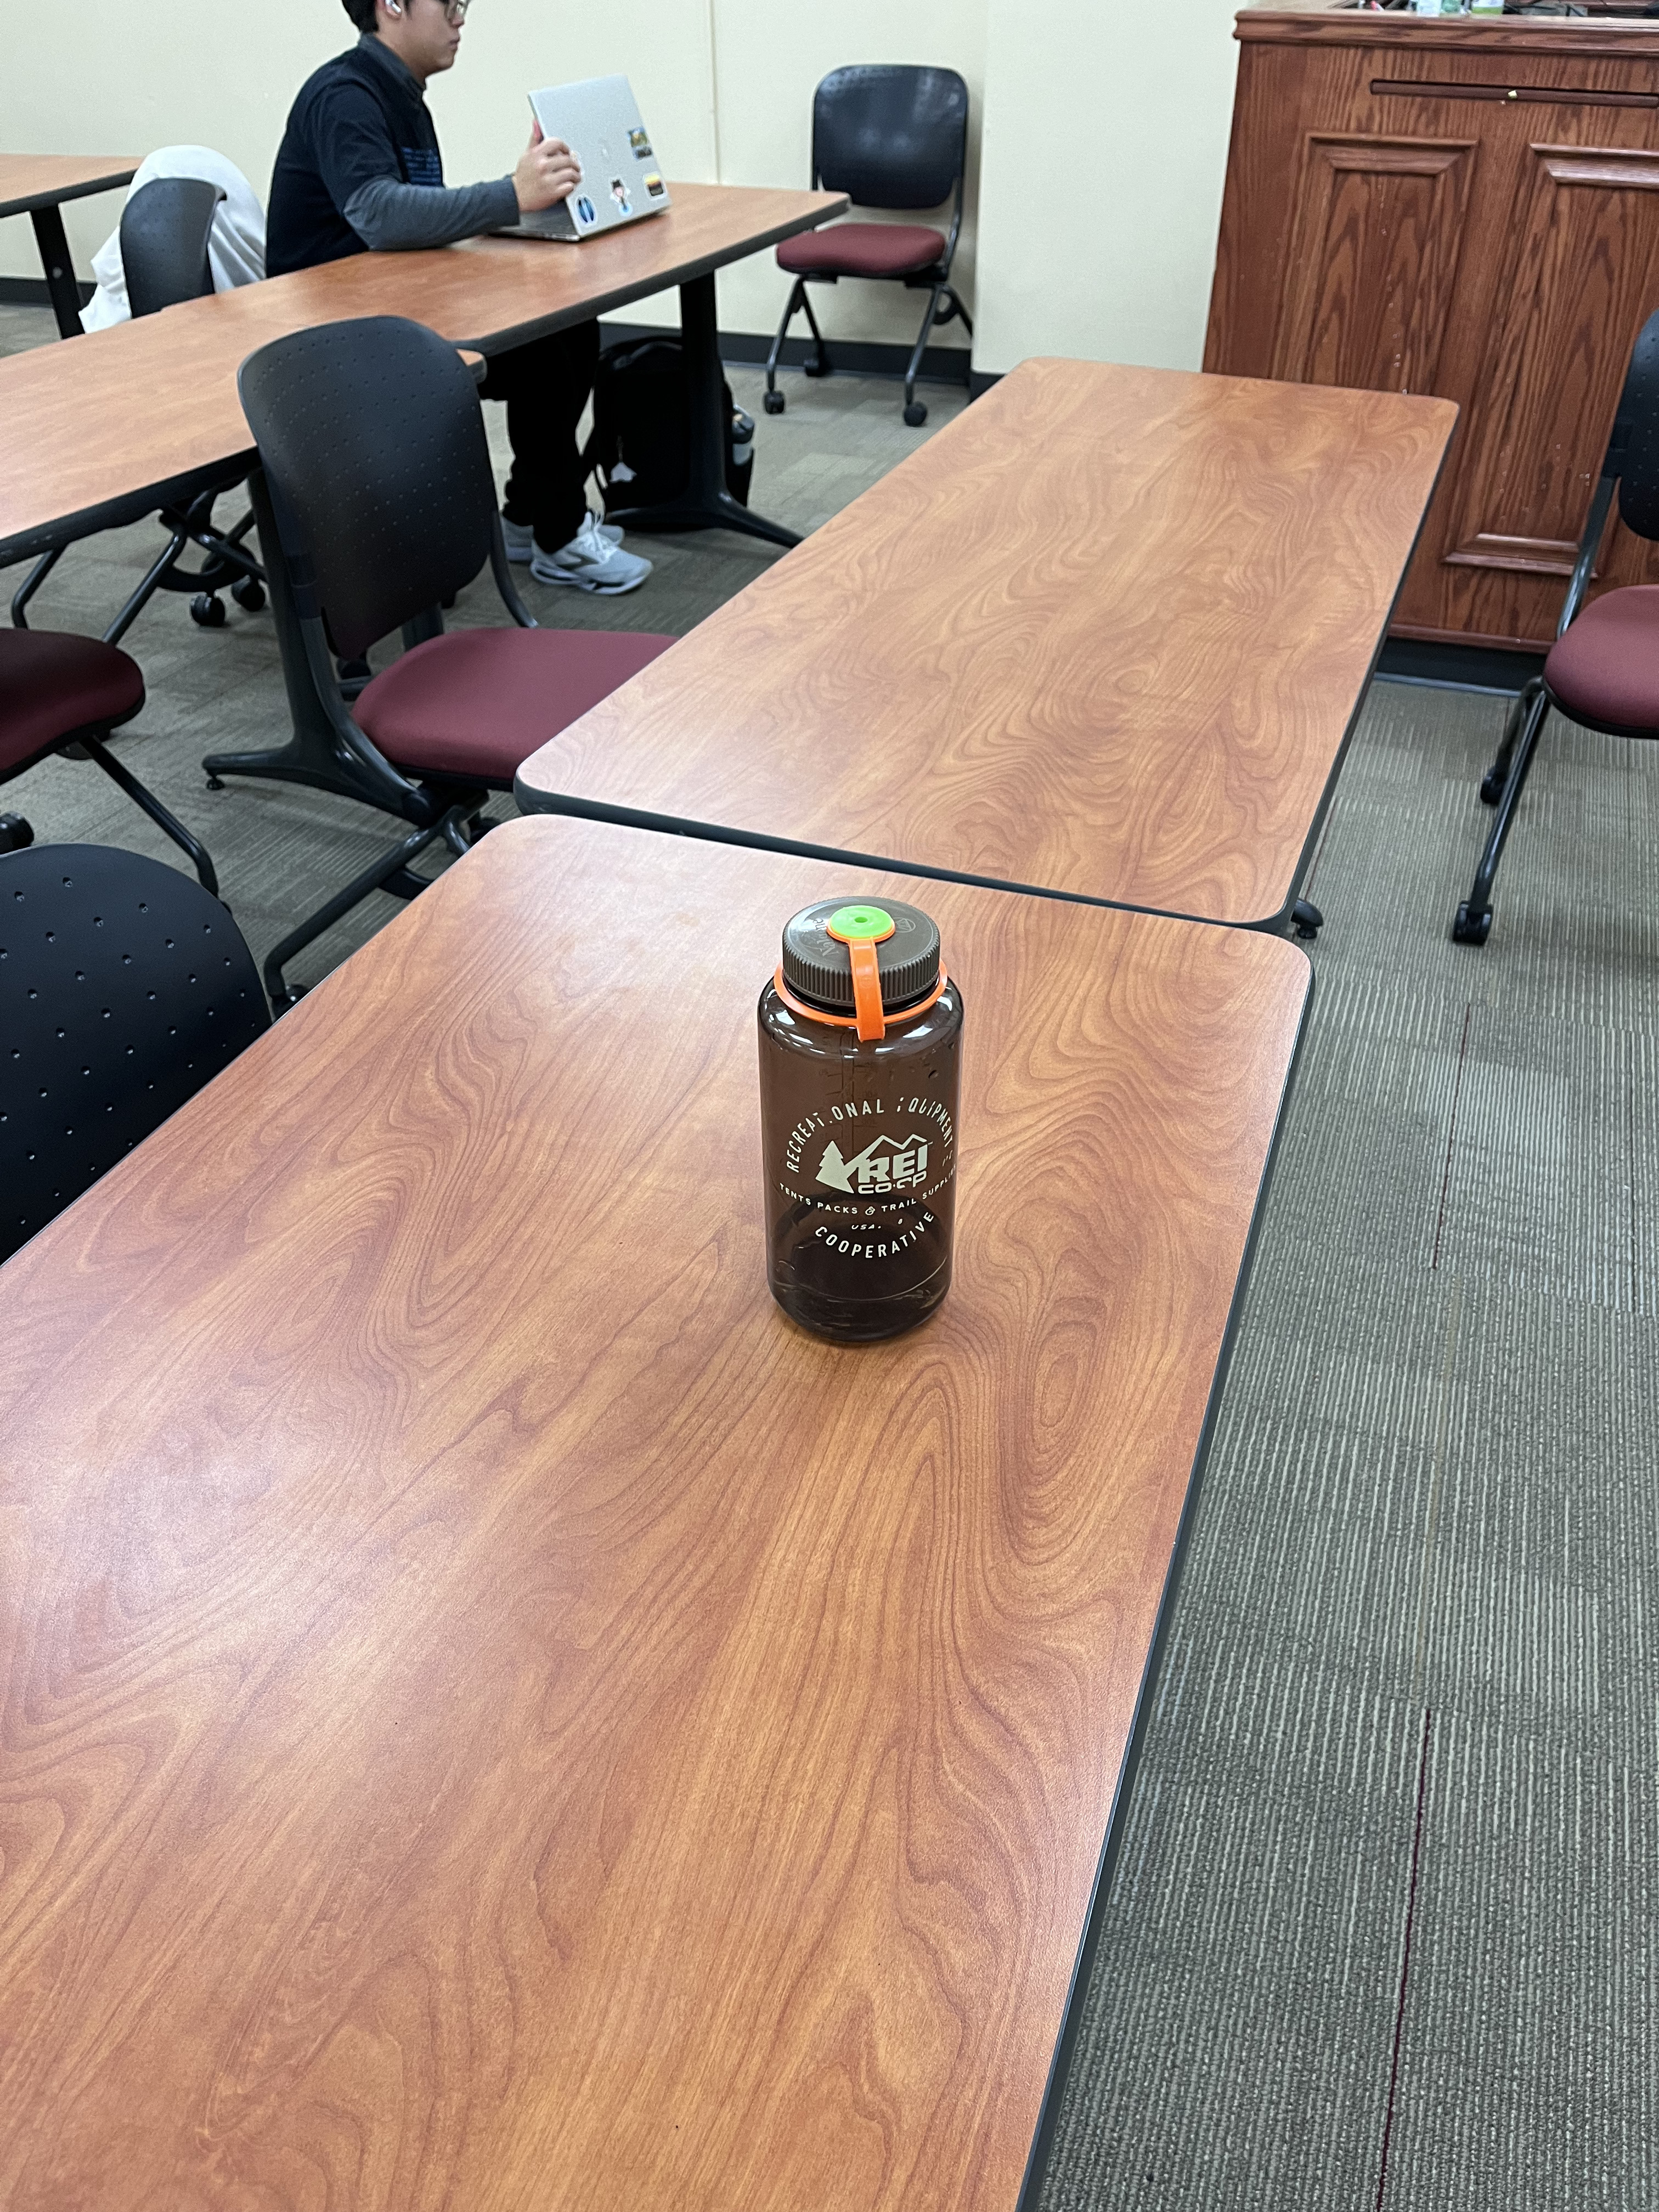bottle: (751, 881, 967, 1359)
